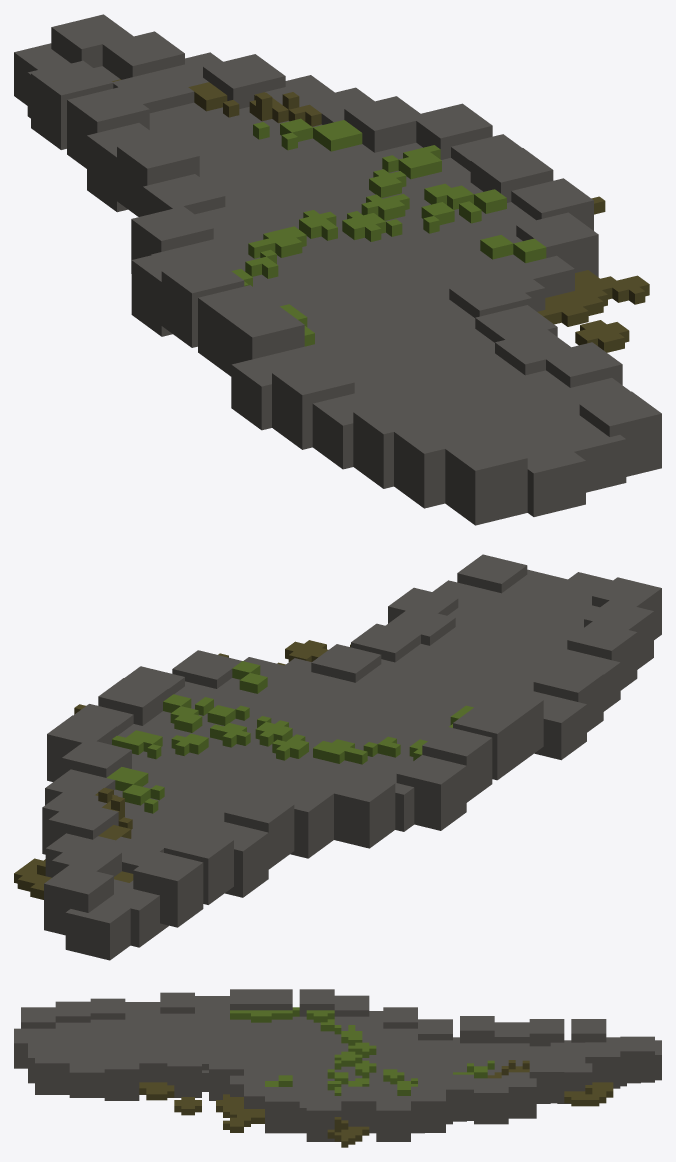
Rendered from Water_floating_rocks_004.glb.
The picture shows the model from 3 angles, top to bottom: view 1: azimuth 30°, elevation 25°; view 2: azimuth 150°, elevation 25°; view 3: azimuth 270°, elevation 25°; orthographic projection. The views are drawn at different scales.
Parts seen in each view (by area): view 1: Water_floating_rocks.004; view 2: Water_floating_rocks.004; view 3: Water_floating_rocks.004.
Part boxes in pixels (<box>): Water_floating_rocks.004: <box>14,14,661,525</box>; Water_floating_rocks.004: <box>14,554,661,960</box>; Water_floating_rocks.004: <box>14,989,661,1147</box>.
Bounding box in the file's own units: 4.23 × 0.564 × 8.74.
1 material, 1 textured.
